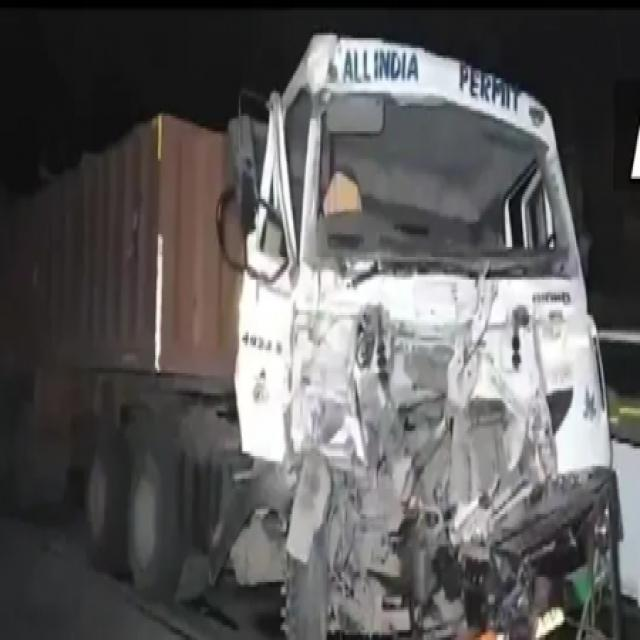accident: (0, 35, 621, 638)
